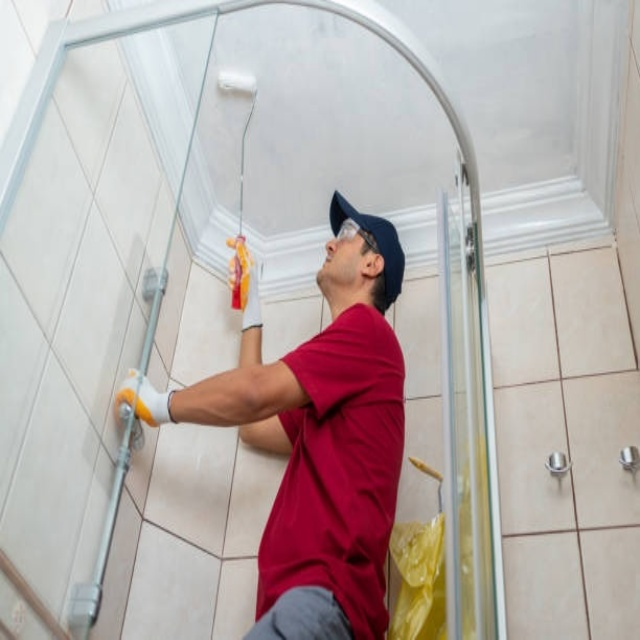Gafas: (337, 218, 381, 259)
Guantes: (115, 368, 168, 430), (239, 253, 263, 332)
Sin_mascara: (314, 246, 334, 276)
